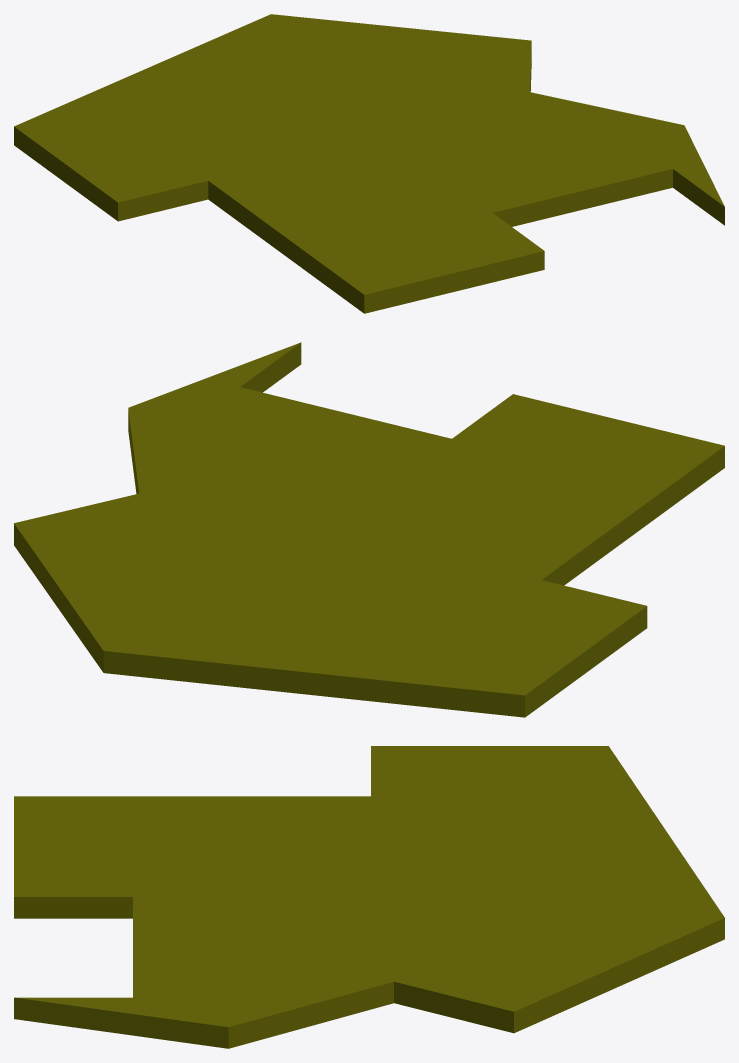
Rendered from x_0_boloto_3_1_rmstrd.fbx.
3 views of the same model, one above another, from view 1: azimuth 30°, elevation 25°; view 2: azimuth 150°, elevation 25°; view 3: azimuth 270°, elevation 25° (orthographic). The views are drawn at different scales.
Parts seen in each view (by area): view 1: x_0_boloto_3_1_rmstrd1; view 2: x_0_boloto_3_1_rmstrd1; view 3: x_0_boloto_3_1_rmstrd1.
Part boxes in pixels (<box>): x_0_boloto_3_1_rmstrd1: <box>14,14,724,313</box>; x_0_boloto_3_1_rmstrd1: <box>14,342,724,717</box>; x_0_boloto_3_1_rmstrd1: <box>14,746,724,1048</box>.
Size of the model in its own units: 5.59 by 0.2 by 5.98.
